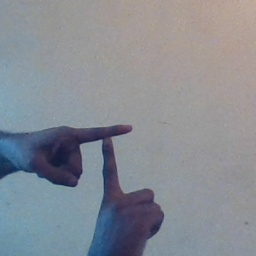T: (46, 114, 160, 216)
